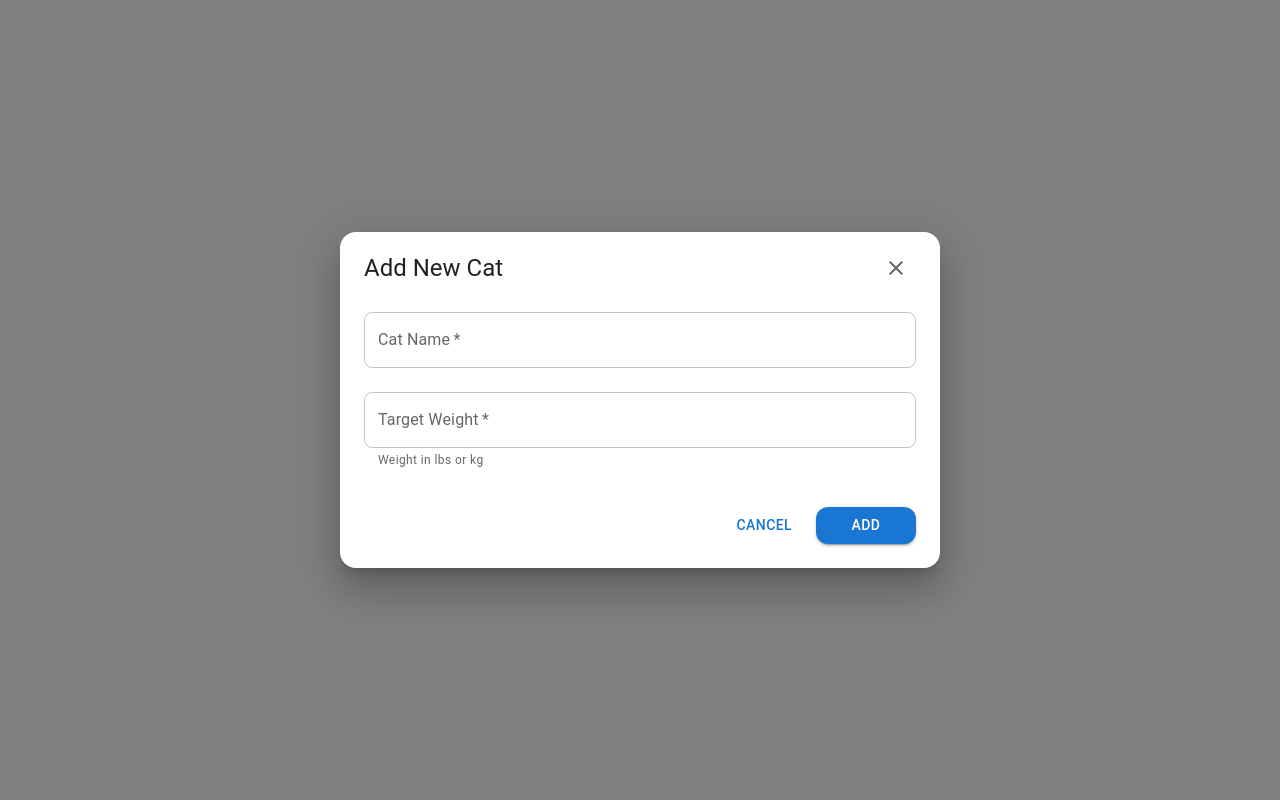
CatForm › validates required target weight field
This screenshot has width=1280, height=800.
Type "Test Cat" into the field labelled "Cat Name *" at (640, 340), box [364,312,916,368]
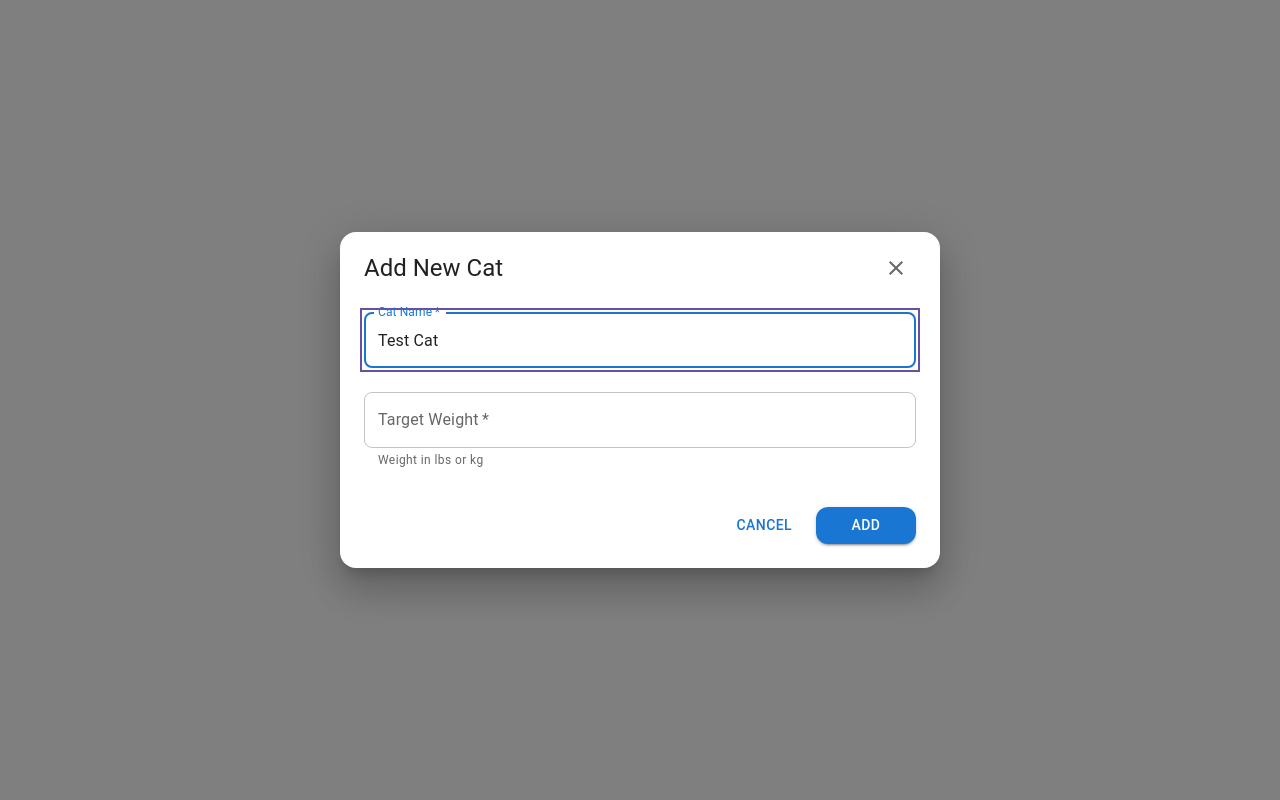
Click the button "Add" at (866, 525), box [816,507,916,544]
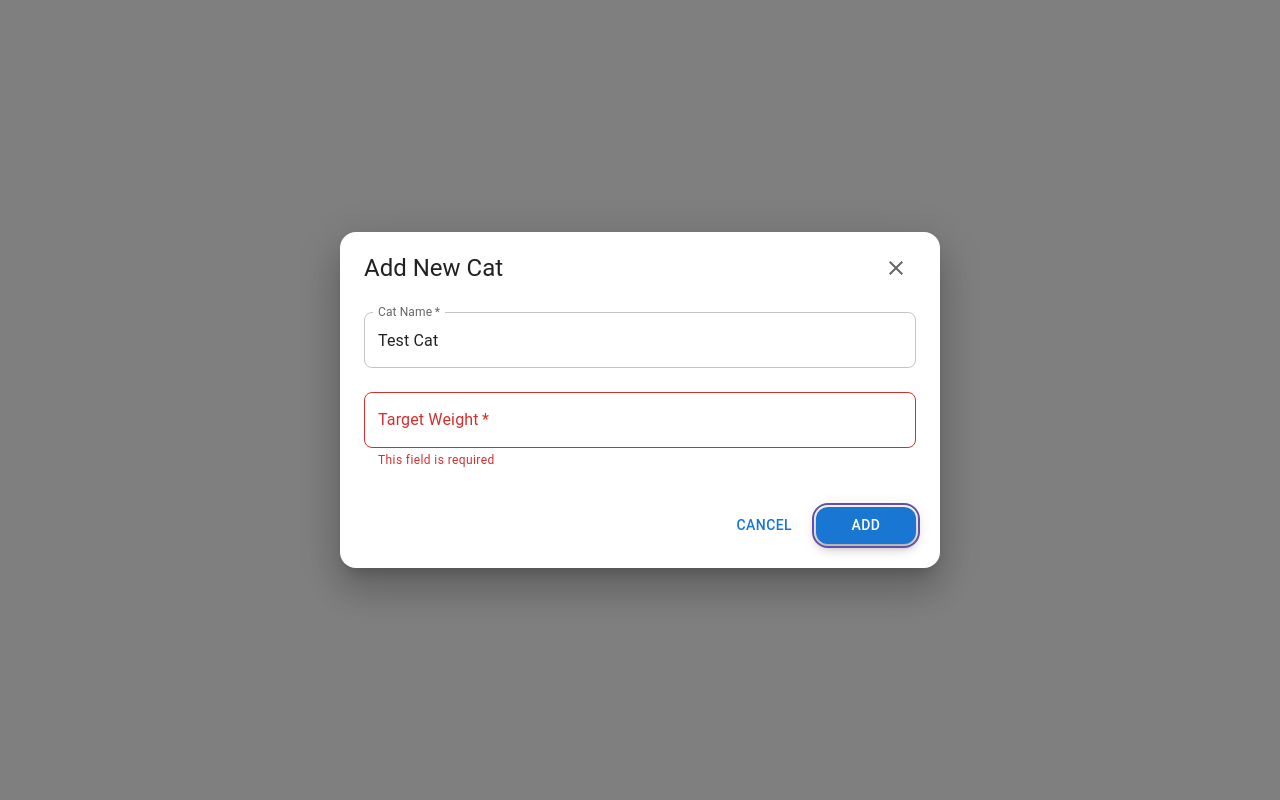
Now the text "This field is required" is shown, box [378,453,495,467]
